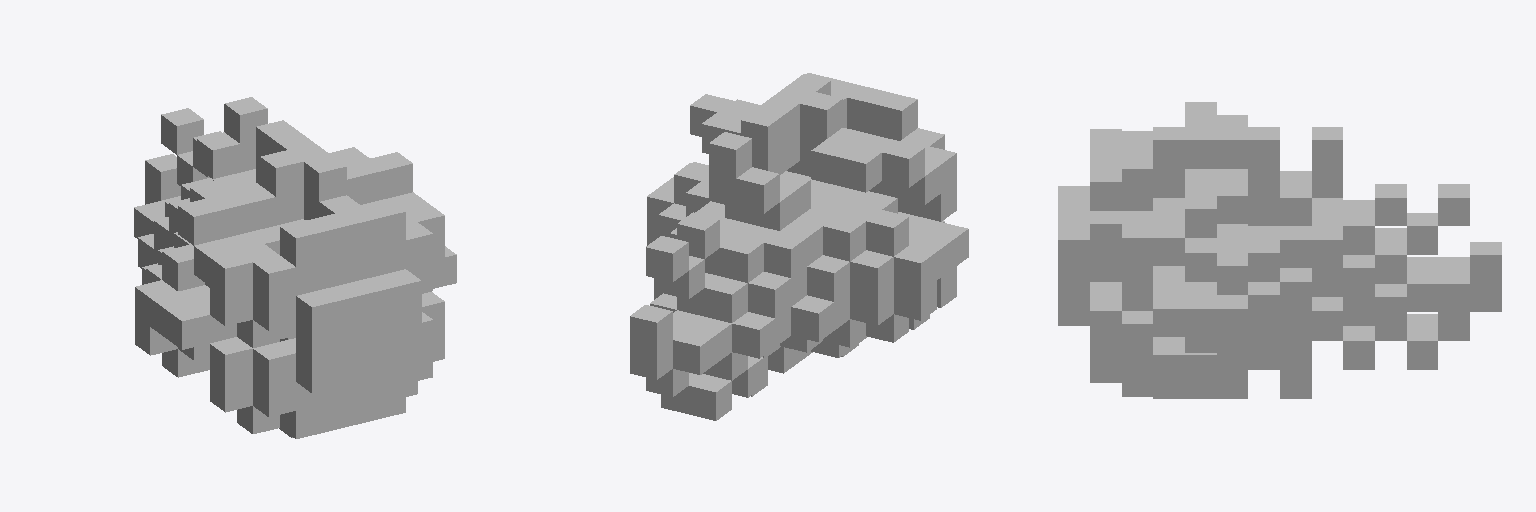
File: fireball-new.obj
The picture shows the model from 3 angles: view 1: azimuth 30°, elevation 25°; view 2: azimuth 150°, elevation 25°; view 3: azimuth 270°, elevation 25°; orthographic projection.
Parts seen in each view (by area): view 1: fireball-0; view 2: fireball-0; view 3: fireball-0.
Boxes of the visible parts, box(x1,y1,x2,y2) form: fireball-0: box(134, 97, 456, 438); fireball-0: box(630, 73, 968, 420); fireball-0: box(1058, 102, 1501, 398).
Size of the model in its own units: 5 by 4.5 by 7.